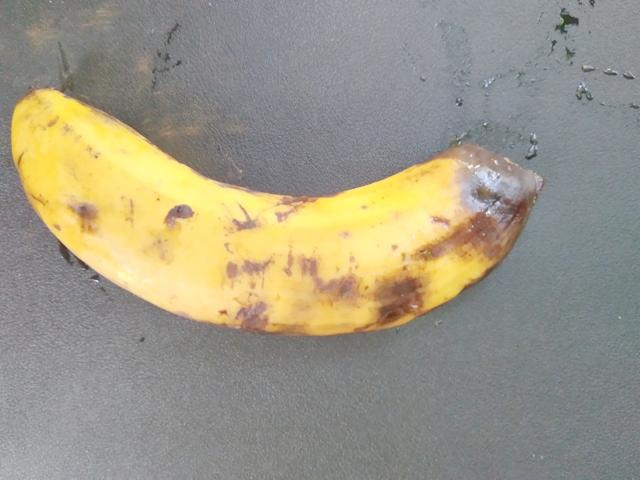overripe: (7, 81, 413, 367)
rotten: (260, 134, 555, 357)
